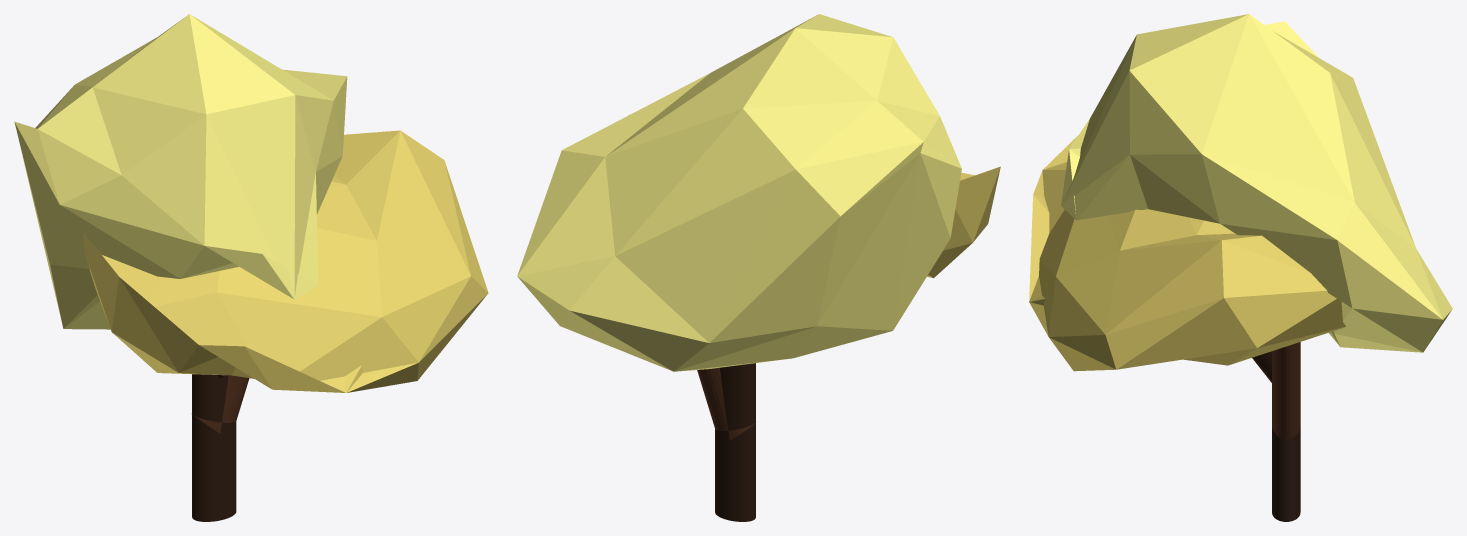
Rendered from arvore_amarela.fbx.
The picture shows the model from 3 angles, left to right: view 1: azimuth 30°, elevation 25°; view 2: azimuth 150°, elevation 25°; view 3: azimuth 270°, elevation 25°; orthographic projection. The views are drawn at different scales.
Visible parts, largest first — view 1: Esfera icosaédrica, Esfera icosaédrica.001, Cilindro, Cilindro.001; view 2: Esfera icosaédrica, Cilindro, Esfera icosaédrica.001, Cilindro.001; view 3: Esfera icosaédrica, Esfera icosaédrica.001, Cilindro.001, Cilindro.
Boxes of the visible parts, box(x1,y1,x2,y2) form: Esfera icosaédrica: box(14, 14, 347, 329); Esfera icosaédrica.001: box(83, 130, 488, 392); Cilindro: box(192, 374, 236, 521); Cilindro.001: box(192, 375, 249, 433); Esfera icosaédrica: box(517, 14, 961, 371); Cilindro: box(715, 363, 755, 521); Esfera icosaédrica.001: box(629, 114, 1000, 278); Cilindro.001: box(697, 367, 755, 440); Esfera icosaédrica: box(1061, 14, 1452, 352); Esfera icosaédrica.001: box(1029, 135, 1345, 371); Cilindro.001: box(1272, 342, 1300, 439); Cilindro: box(1272, 424, 1300, 521).
Bounding box in the file's own units: 655 × 830 × 666.
